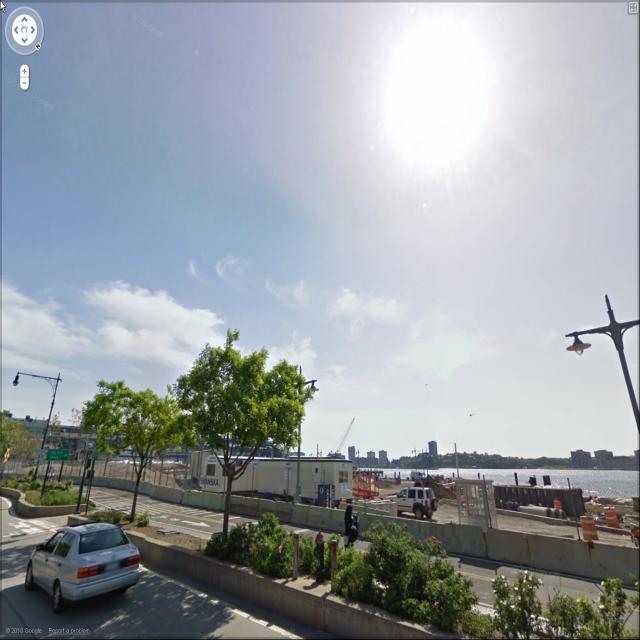b_1: (564, 445, 592, 472), (342, 440, 361, 475), (427, 438, 441, 473), (594, 448, 612, 473), (365, 454, 379, 472), (381, 445, 385, 475)
